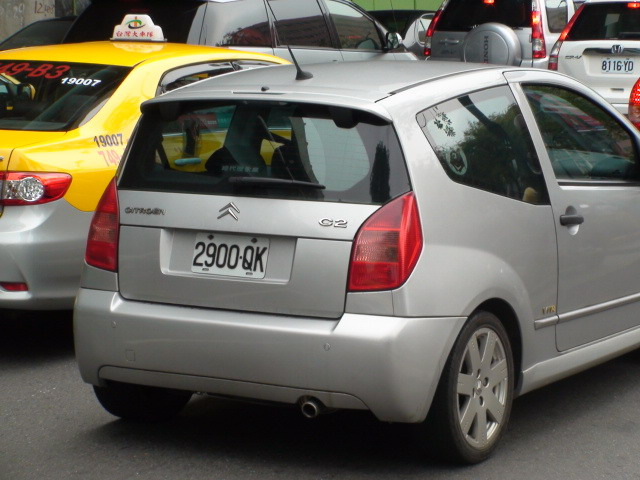plate: (189, 231, 273, 281), (599, 54, 637, 77)
